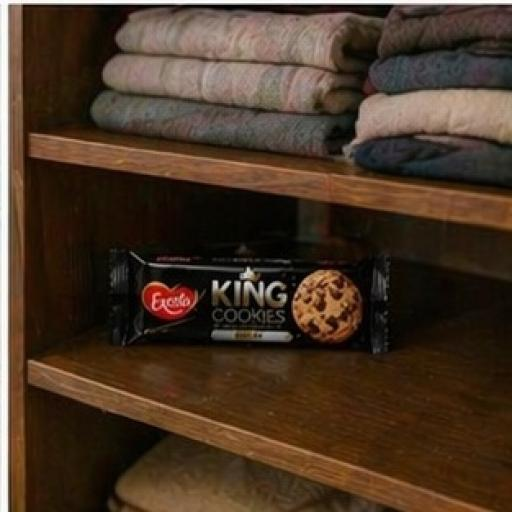king_cooking: (87, 186, 433, 395)
